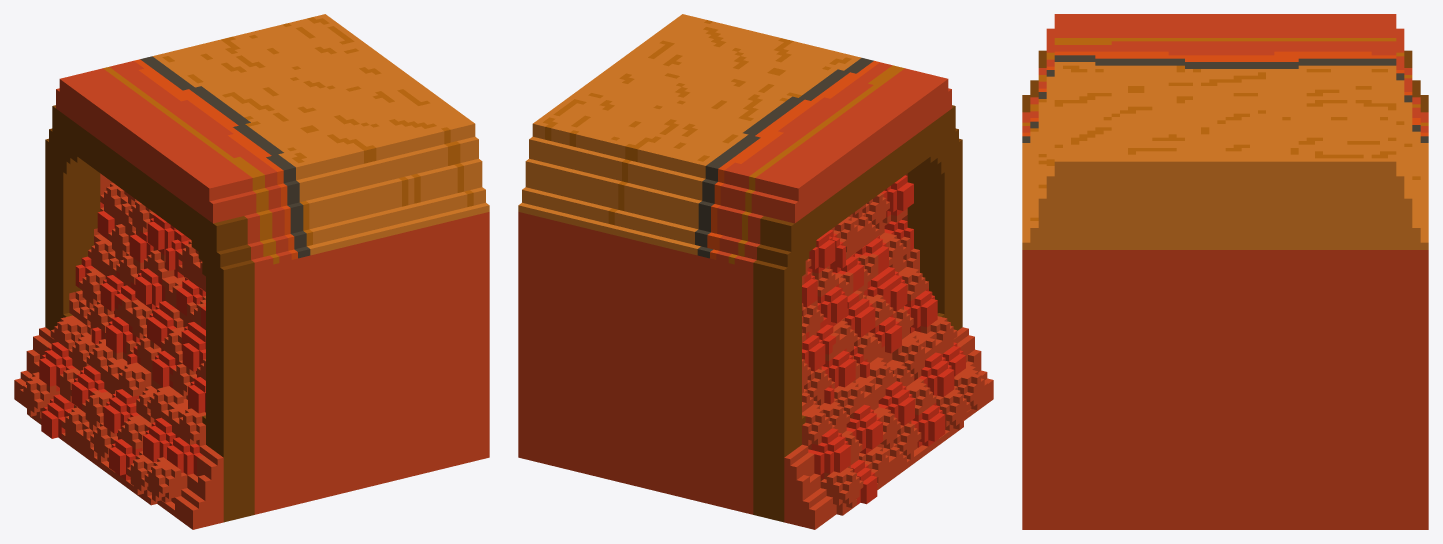
Rendered from exite1.obj.
3 renders of one model, left to right at view 1: azimuth 30°, elevation 25°; view 2: azimuth 150°, elevation 25°; view 3: azimuth 270°, elevation 25°, orthographic. The views are drawn at different scales.
Size of the model in its own units: 5 by 5 by 5.
1 material, 1 textured.
